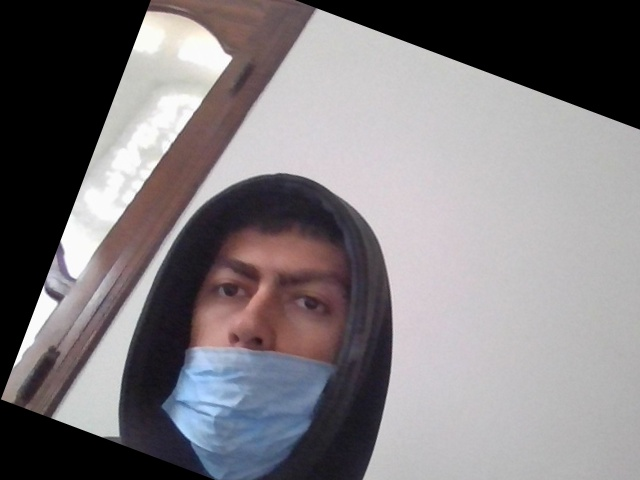mask_weared_incorrect: (157, 210, 343, 480)
